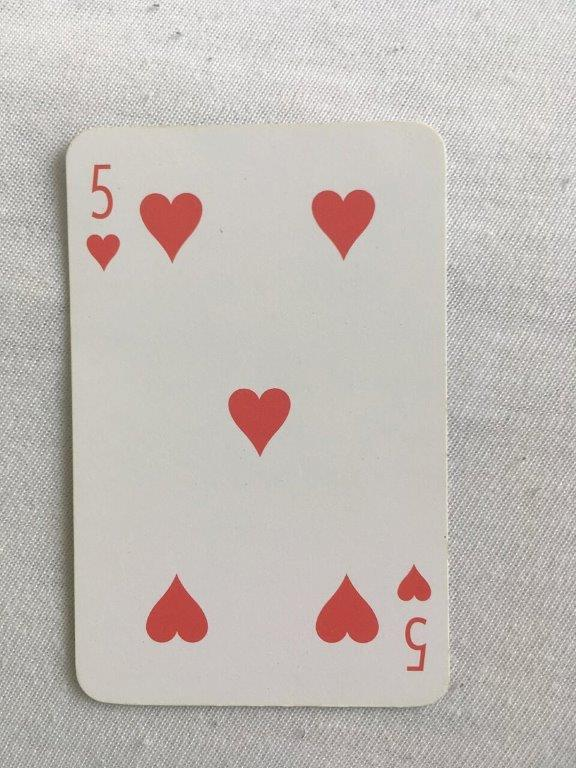5H: (61, 118, 455, 711)
